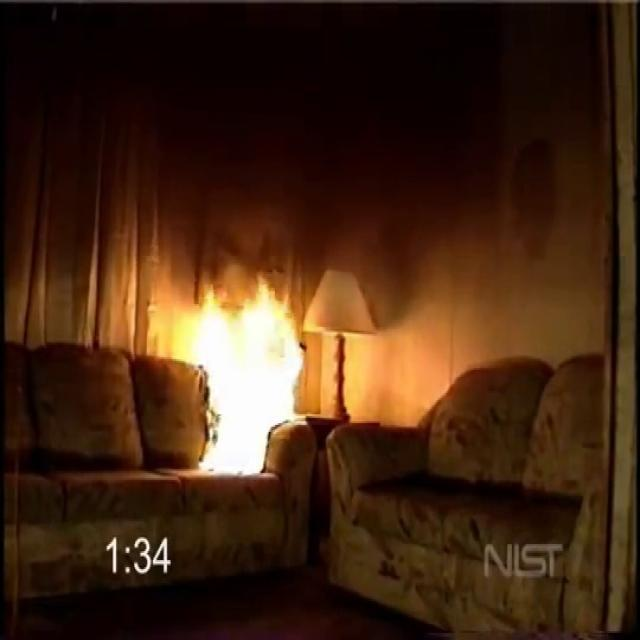Fire: (156, 269, 320, 479)
Smoke: (4, 14, 632, 356)
